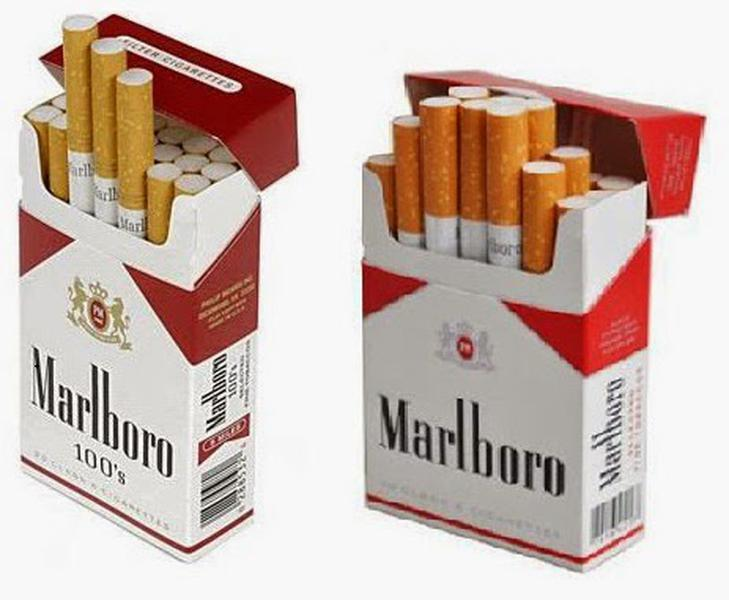marlboro_red: (365, 202, 585, 512), (20, 187, 196, 499)
